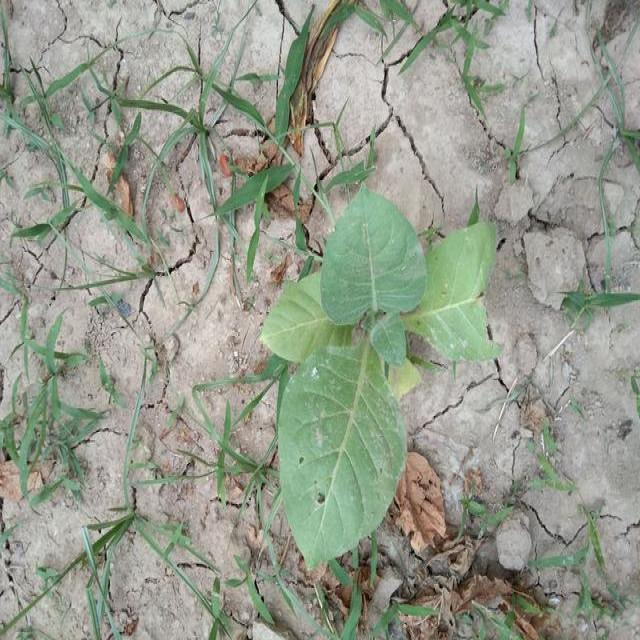crop: (272, 200, 490, 554)
